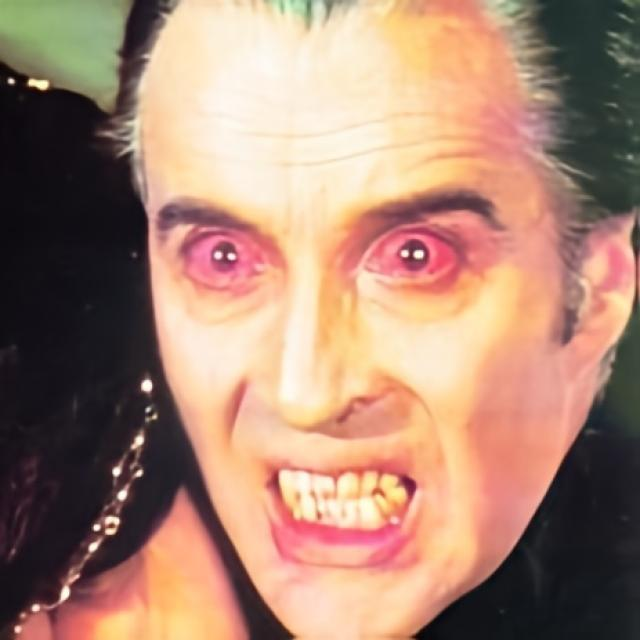anger: (146, 74, 570, 640)
